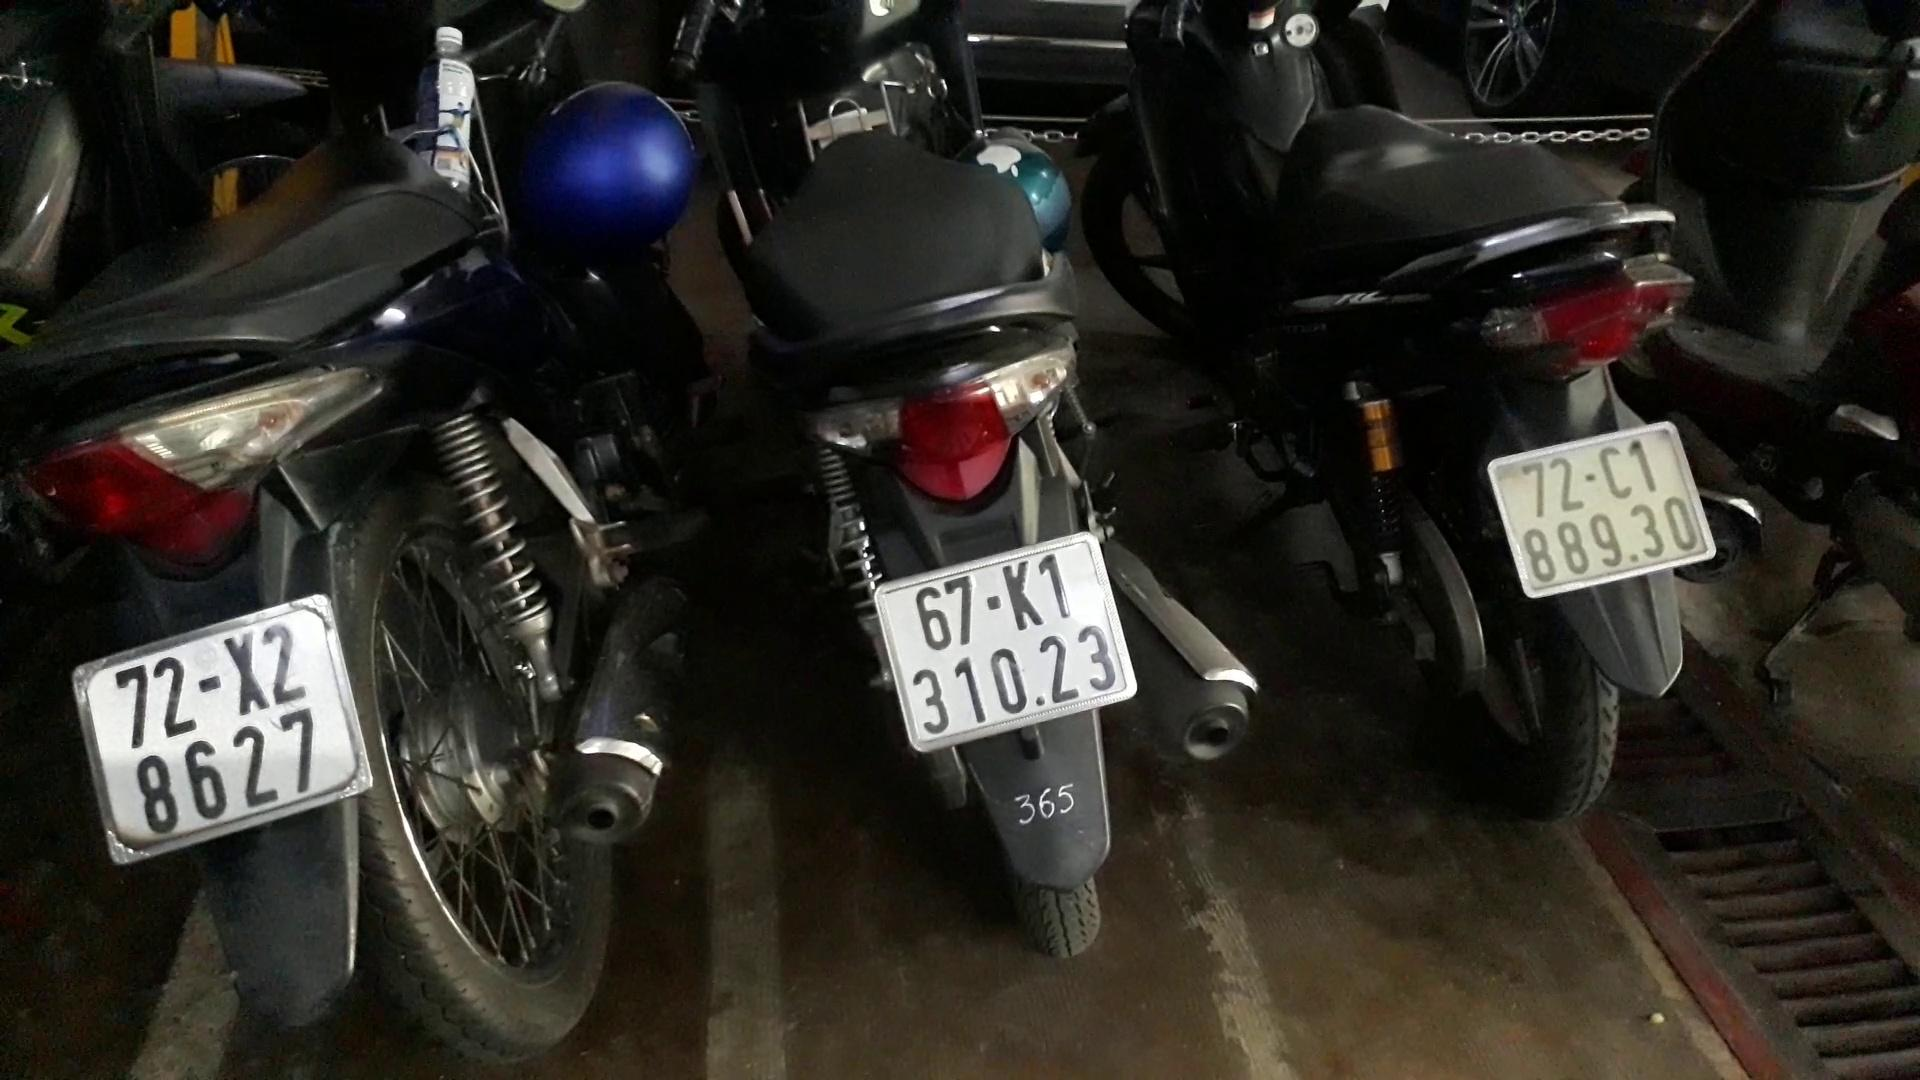numplate: (60, 603, 383, 867), (840, 537, 1163, 757), (1470, 403, 1731, 609)
